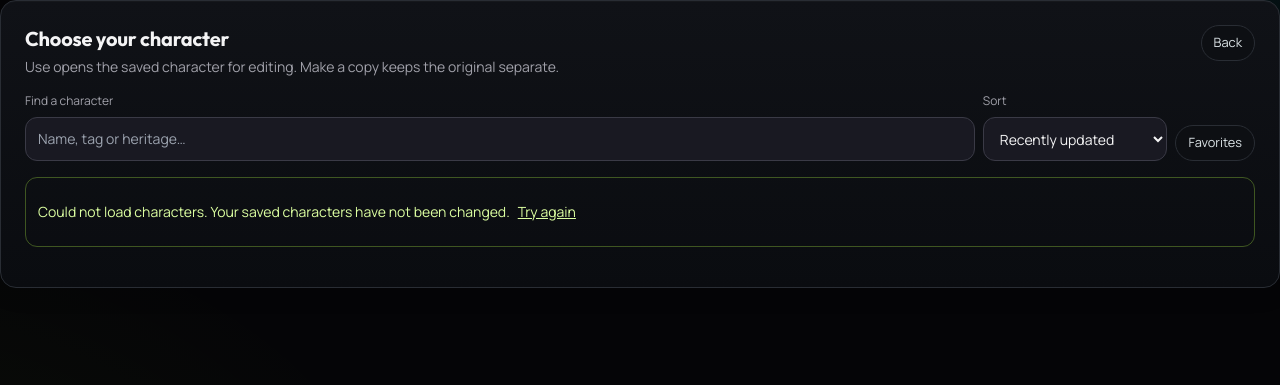
Scenario: load failures offer retry and empty libraries offer a starting point
Expected: the message is shown, 25,177 -> 1255,247
Click the button "Try again" at (547, 212), box 518,190 -> 576,234
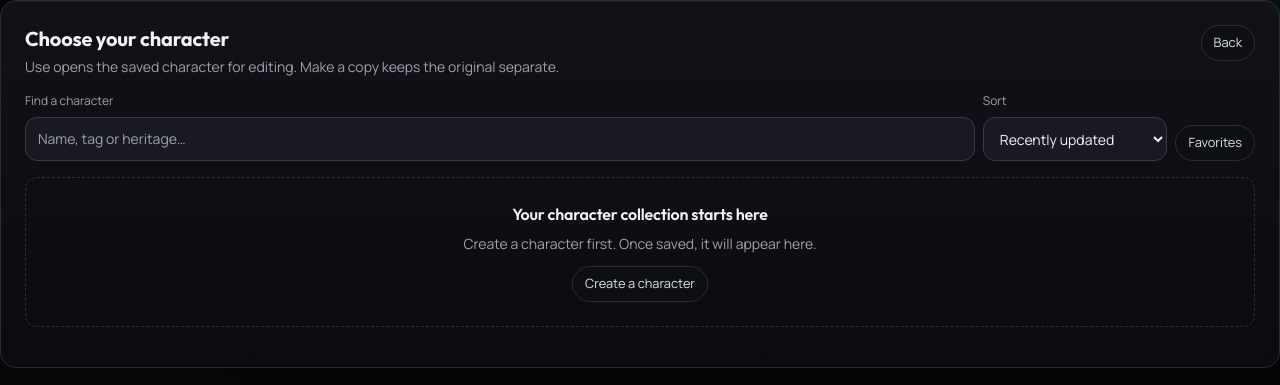
Expected: the text "Your character collection starts here" is shown, 512,204 -> 768,224
Expected: the link to "/character/new" is shown, 572,266 -> 708,302
